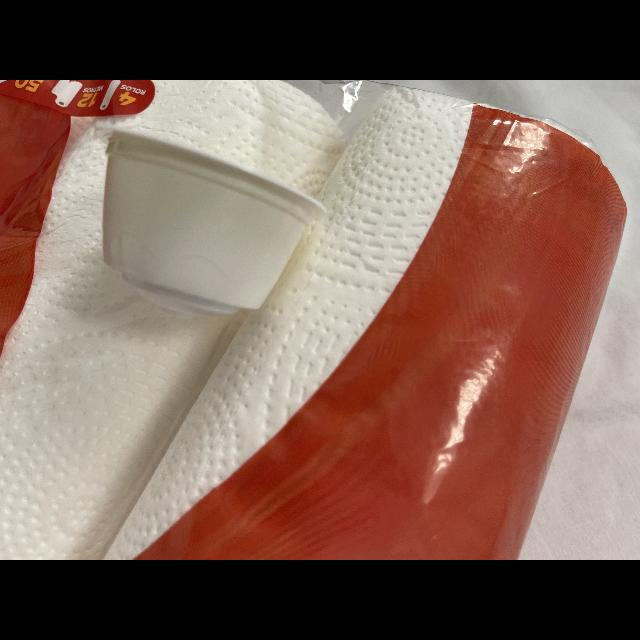intact_capsule: (88, 125, 334, 331)
